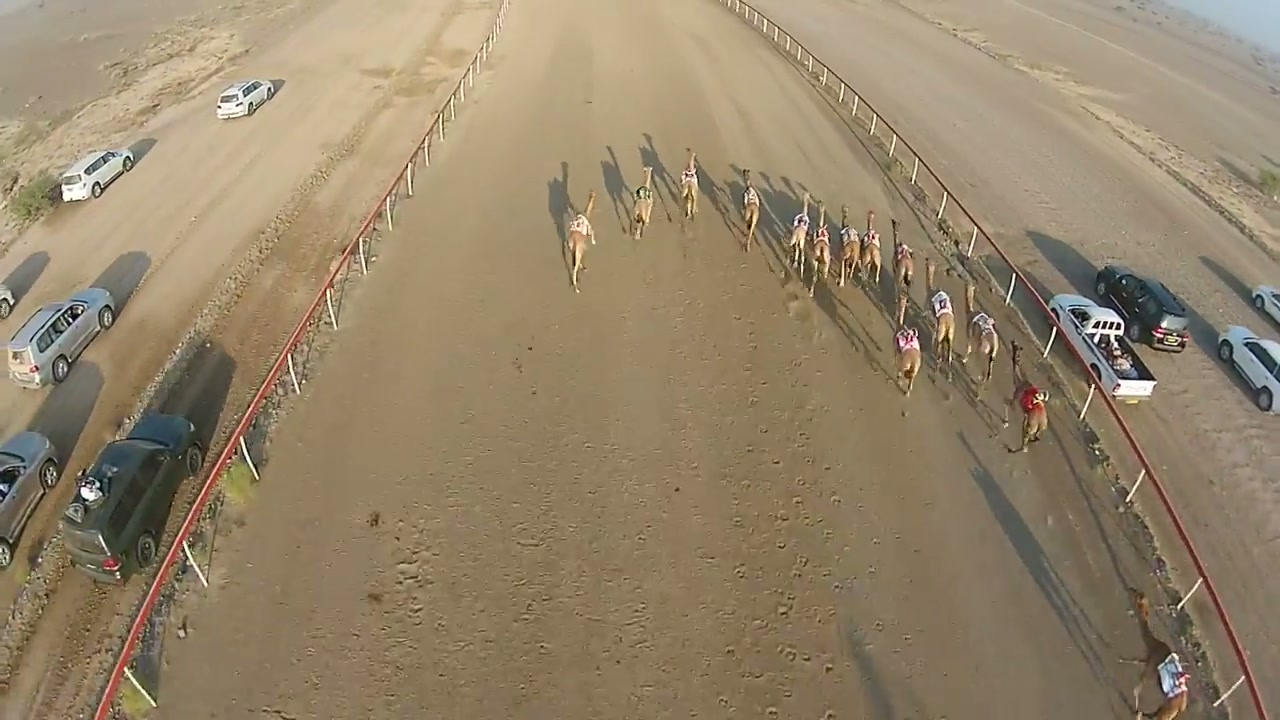animal_footprint: (713, 291, 880, 719)
